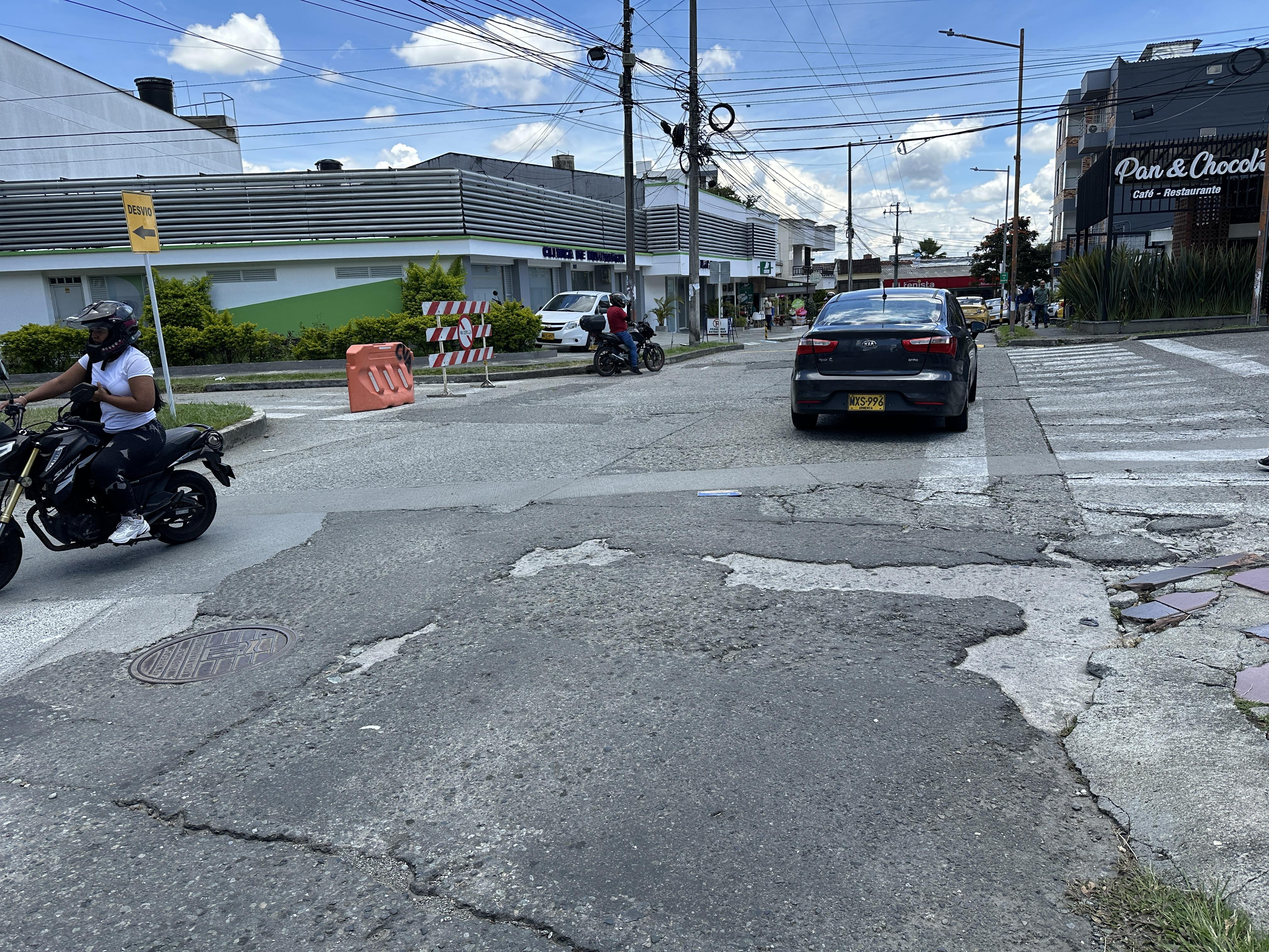bache: (704, 540, 1177, 737), (1087, 509, 1269, 565), (344, 623, 438, 678), (506, 538, 636, 577)
grieta: (113, 799, 599, 952), (952, 475, 1039, 534), (868, 479, 959, 530), (753, 483, 841, 520), (1031, 473, 1096, 509), (1194, 479, 1269, 501), (1110, 469, 1168, 480)
registro: (129, 625, 296, 684)
